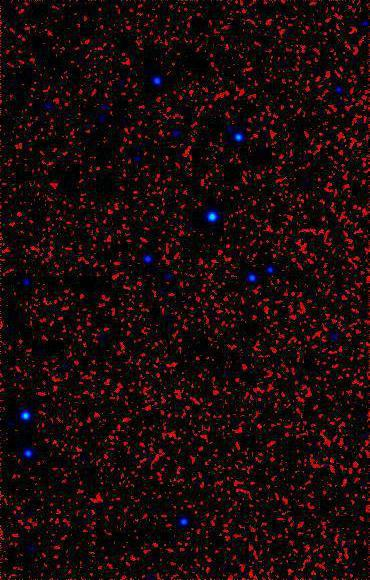star: (8, 402, 38, 432)
